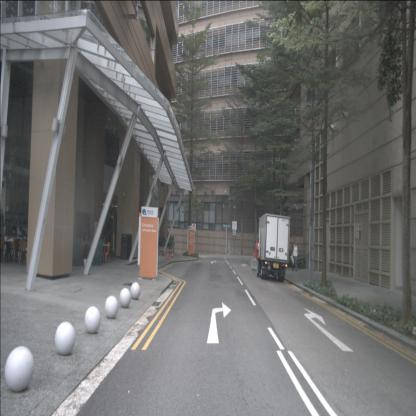human-pedestrian-adult: (19, 226, 28, 259), (290, 240, 298, 272), (254, 238, 260, 277)
movable_object-trafficcone: (166, 248, 170, 260), (161, 246, 165, 257), (170, 249, 173, 258)
vehicle-truck: (254, 213, 291, 282)
